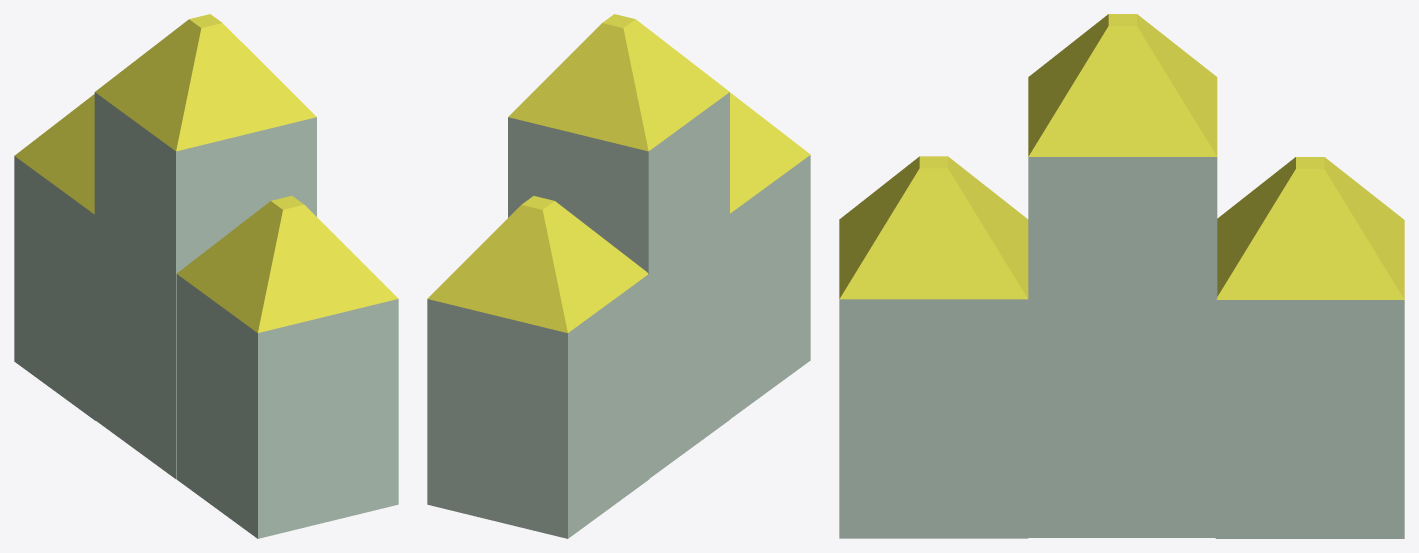
3 renders of one model, left to right at view 1: azimuth 30°, elevation 25°; view 2: azimuth 150°, elevation 25°; view 3: azimuth 270°, elevation 25°, orthographic. The views are drawn at different scales.
Visible parts, largest first — view 1: Cube.002; view 2: Cube.002; view 3: Cube.002.
Boxes of the visible parts, x1,y1,x2,y2 form: Cube.002: [14, 14, 398, 538]; Cube.002: [427, 14, 810, 538]; Cube.002: [839, 14, 1404, 538].
Size of the model in its own units: 201 by 559 by 598.
